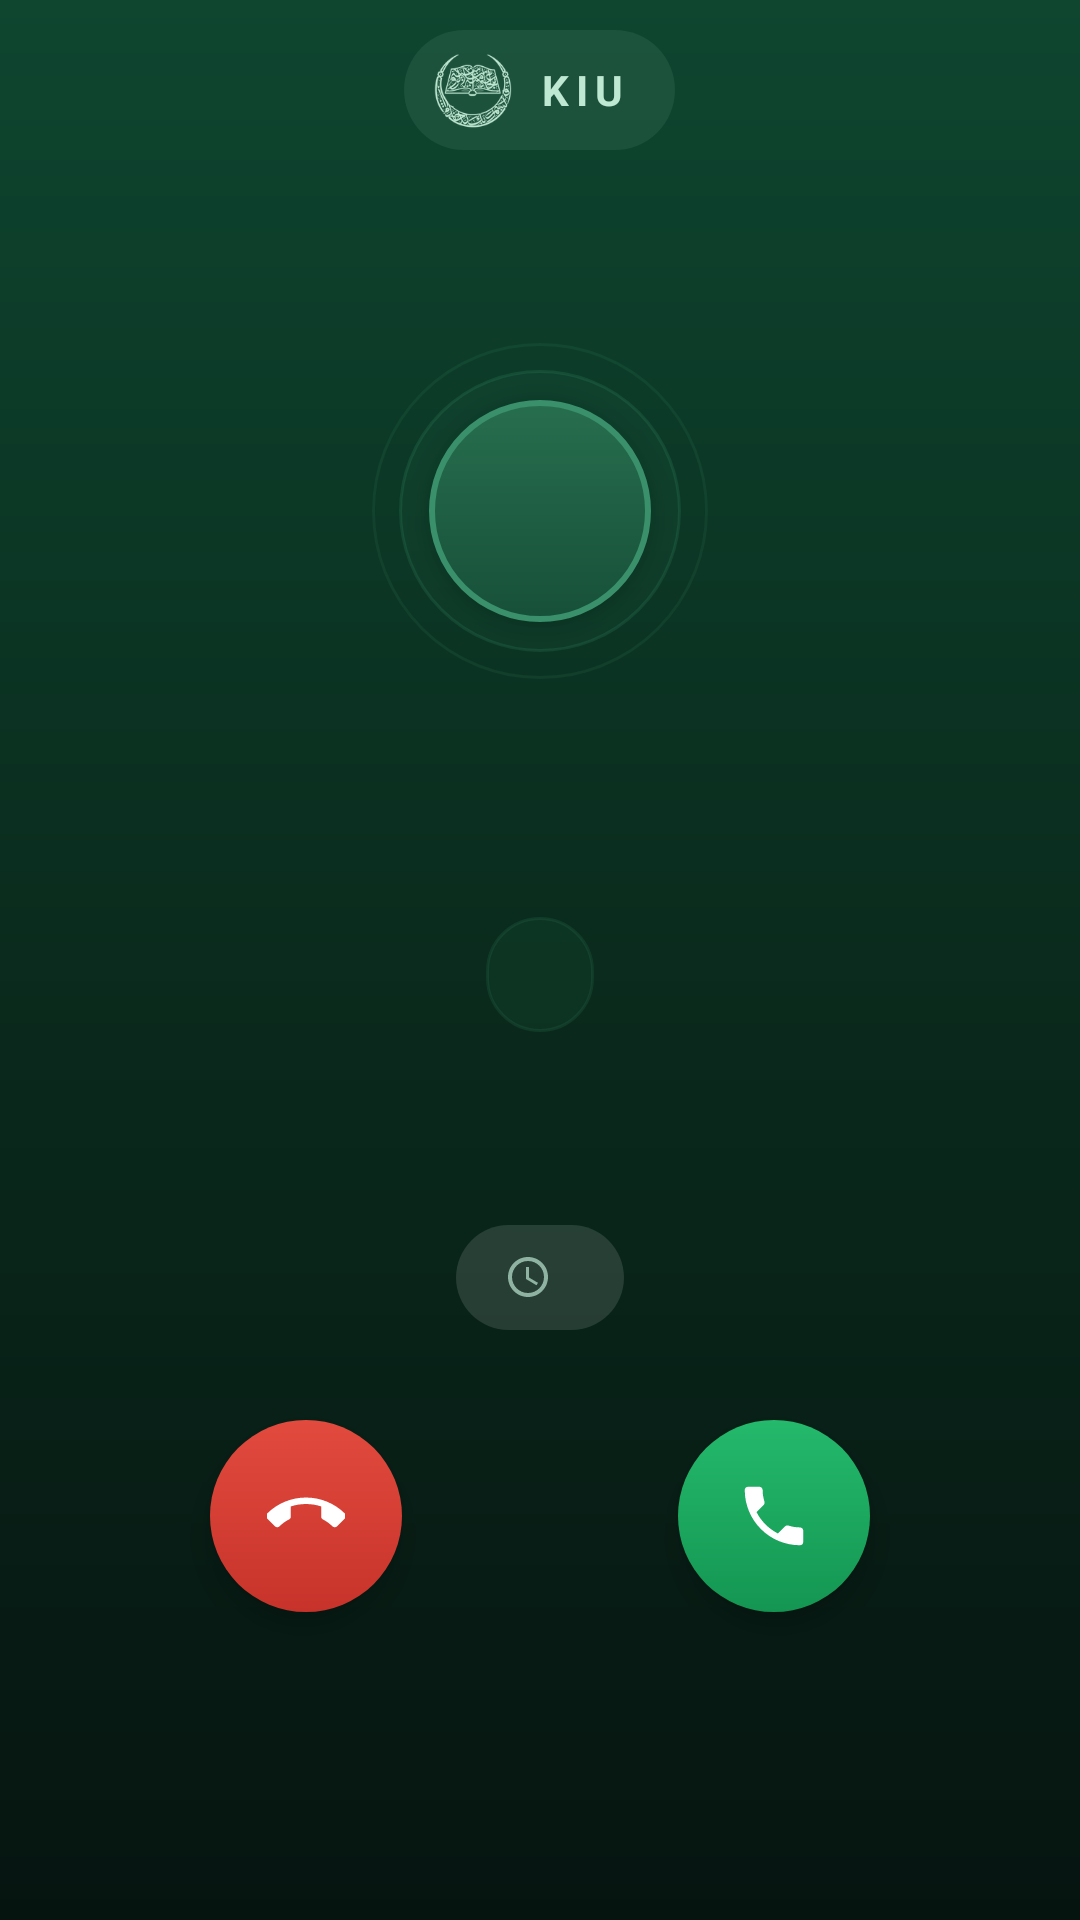

Icon bounding boxes for this 1080px x 1920px phone screenshot, format (x1, y1, x2, y2):
kiu call countdown pill: (456, 1225, 624, 1330)
lesson call answer: (678, 1420, 870, 1612)
lesson call decline: (210, 1420, 402, 1612)
